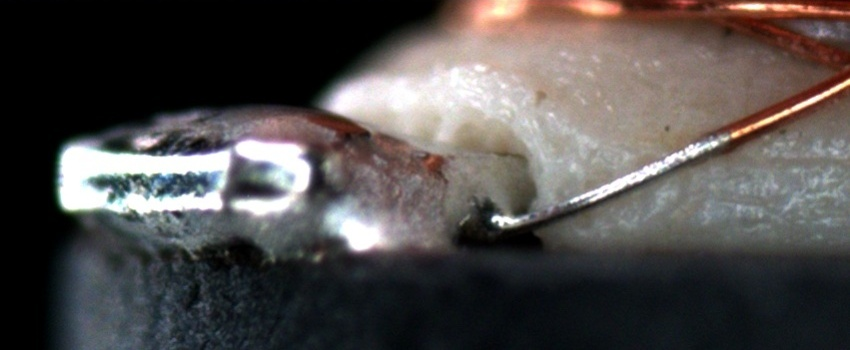DL: (641, 125, 849, 189)
TS: (493, 128, 734, 233)
